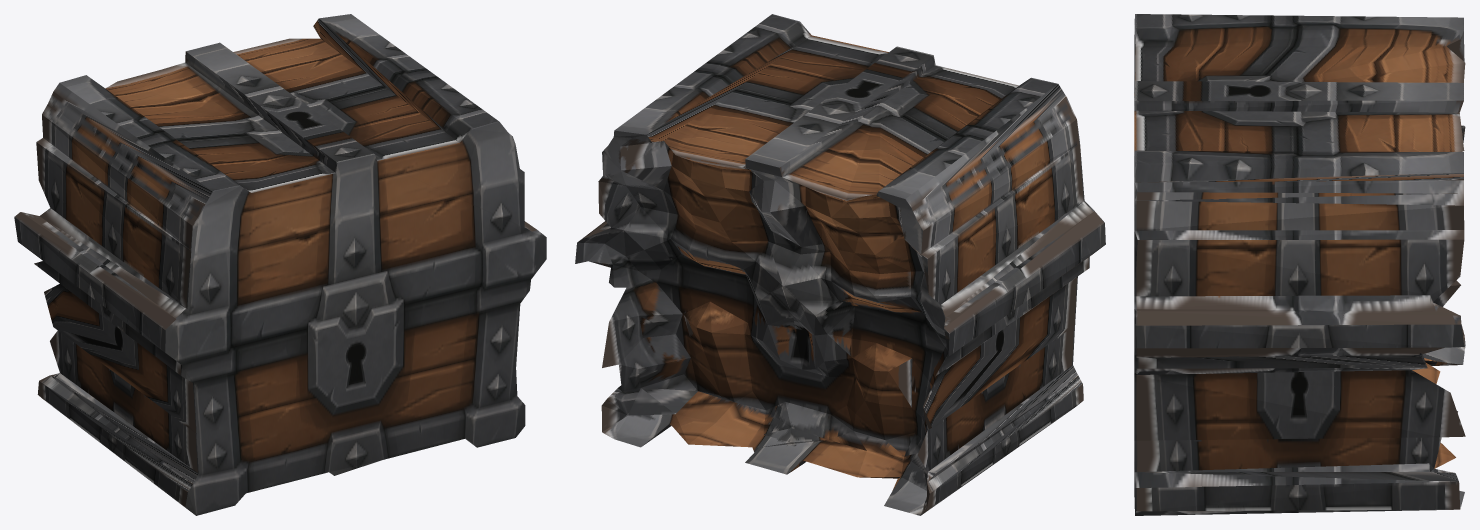
The model's file is SM_Dungeon_Chest_A_LOD1.fbx.
3 renders of one model, left to right at view 1: azimuth 30°, elevation 25°; view 2: azimuth 150°, elevation 25°; view 3: azimuth 270°, elevation 25°, orthographic. The views are drawn at different scales.
Parts seen in each view (by area): view 1: SM_Dungeon_Chest_A_LOD1; view 2: SM_Dungeon_Chest_A_LOD1; view 3: SM_Dungeon_Chest_A_LOD1.
Part boxes in pixels (x1,y1,x2,y2): SM_Dungeon_Chest_A_LOD1: (14,14,546,515); SM_Dungeon_Chest_A_LOD1: (575,14,1105,515); SM_Dungeon_Chest_A_LOD1: (1134,14,1465,515).
Size of the model in its own units: 1 by 0.8044 by 0.7037.
